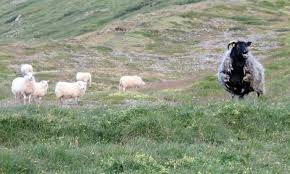sheep: (219, 37, 266, 101), (54, 77, 85, 103), (12, 75, 36, 106), (117, 72, 147, 93), (30, 80, 50, 107), (16, 62, 40, 80), (75, 70, 95, 90)
